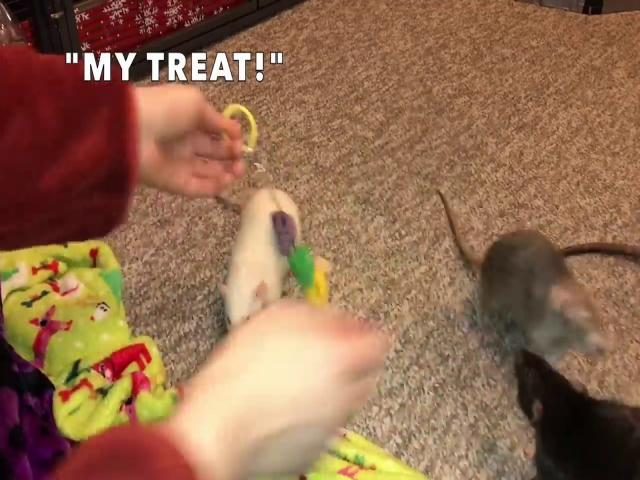Tikus: (436, 186, 606, 357), (225, 193, 300, 335)
